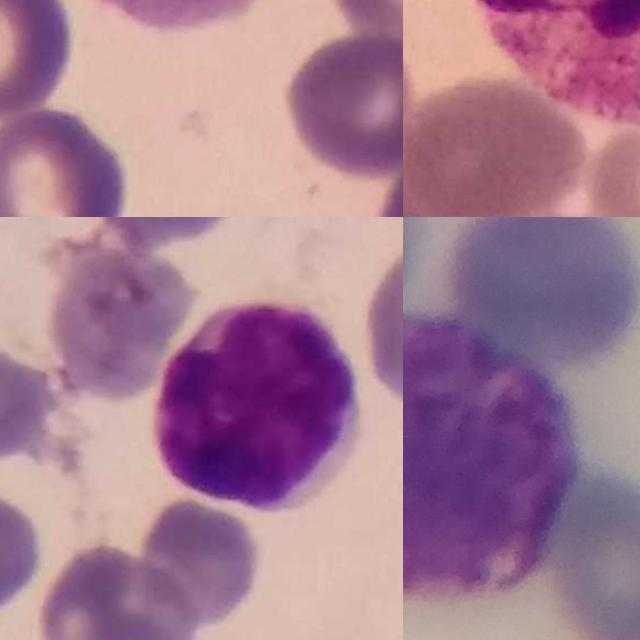Basophil: (403, 314, 579, 597)
Lymphocyte: (149, 301, 362, 515)
Neutrophil: (445, 0, 640, 123)
